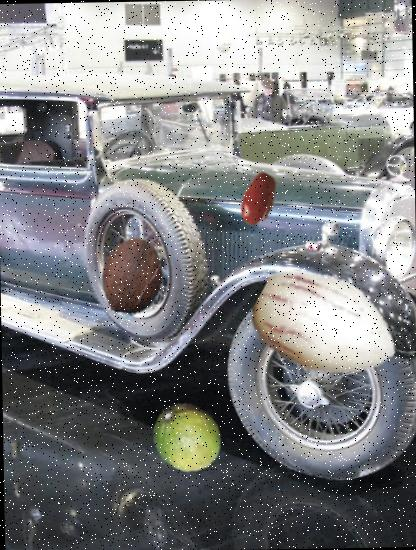Cocos: (92, 237, 172, 317)
Limes: (150, 400, 224, 474)
Pepino: (252, 252, 400, 401)
Tomato: (231, 172, 286, 226)
